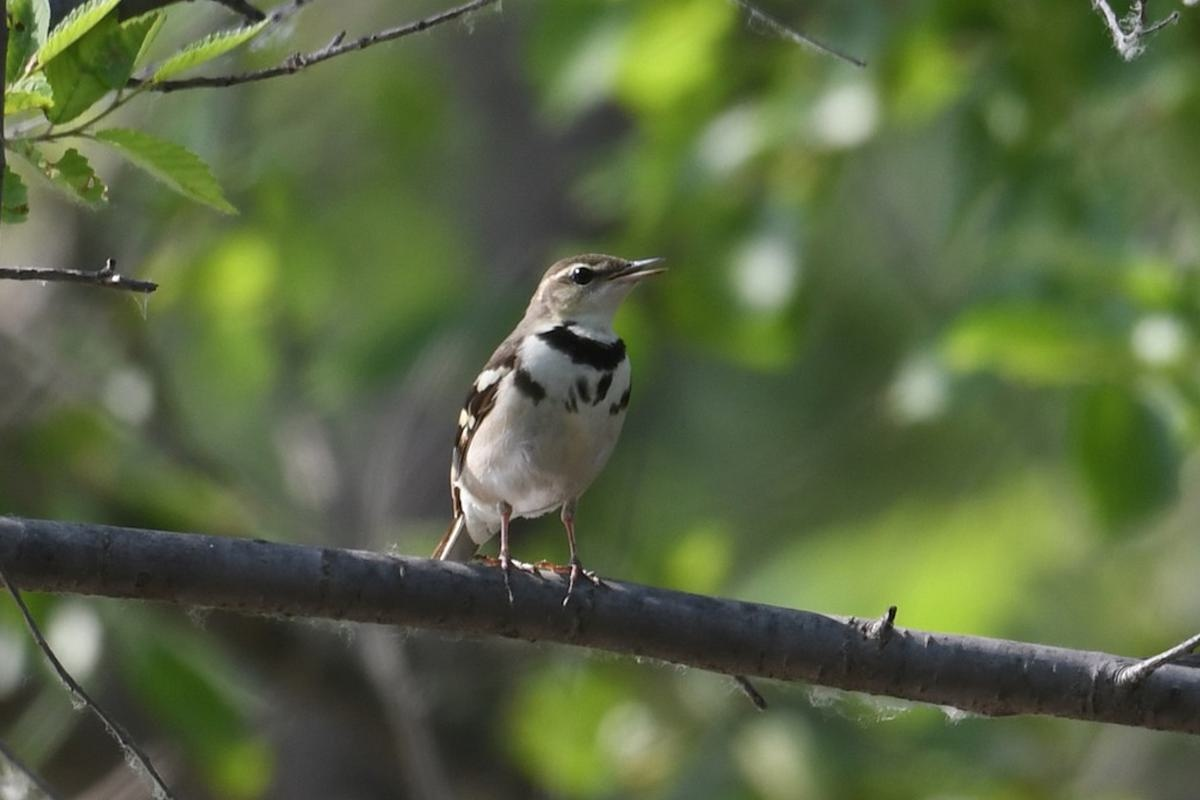wagtail: (376, 215, 705, 602)
